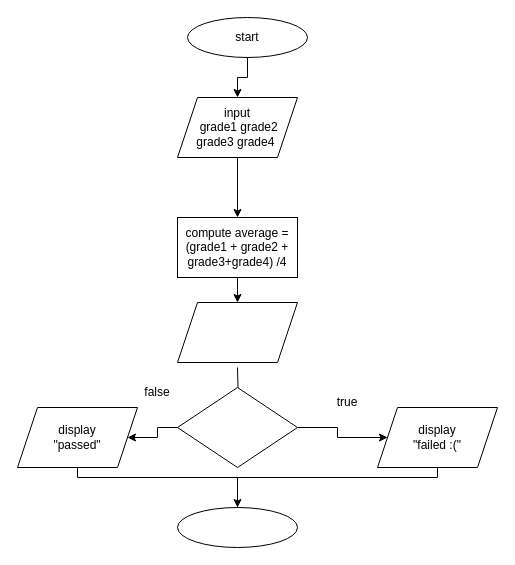
Some shapes in this 515 by 565 pixel diagram are drawn without their labels. The centre of each missing label's shape, as x and y in pixels:
average < 60: the point at 237,427
display average: the point at 237,332
end: the point at 237,527
